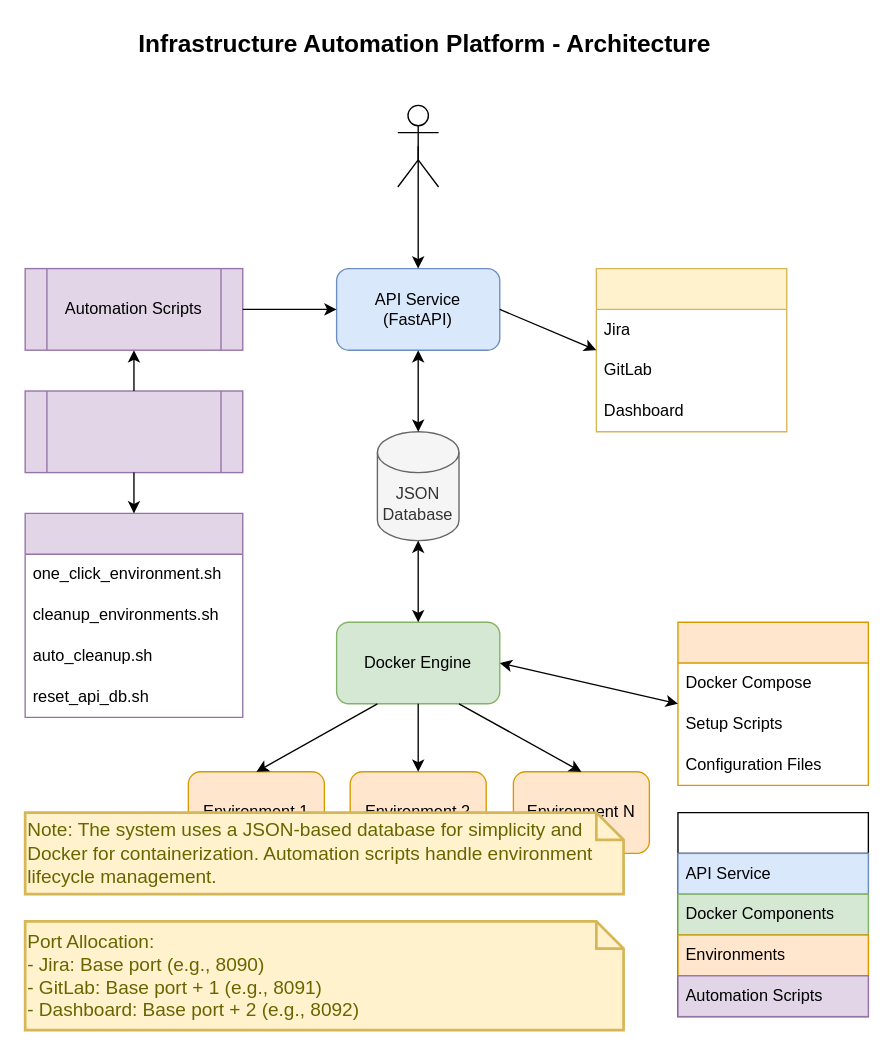
This 892x1054 diagram has some shape labels left out. Each missing label, with the box of its shape:
Cron Jobs: (24, 390, 243, 473)
Environment Components: (677, 621, 868, 785)
Environment Tools: (595, 267, 787, 432)
Legend: (677, 811, 868, 1017)
Script Components: (24, 512, 243, 717)
User: (396, 104, 439, 187)
